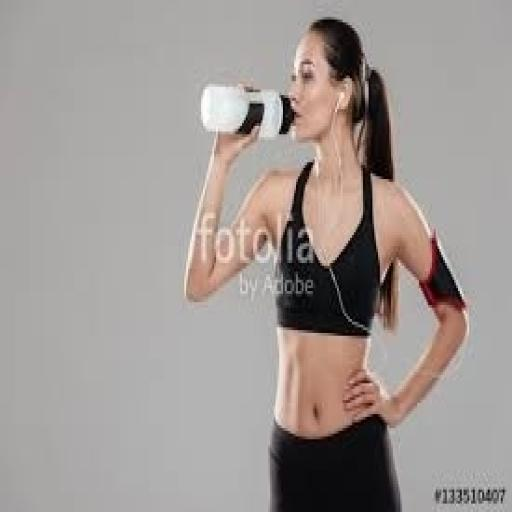drinking: (199, 81, 294, 140)
